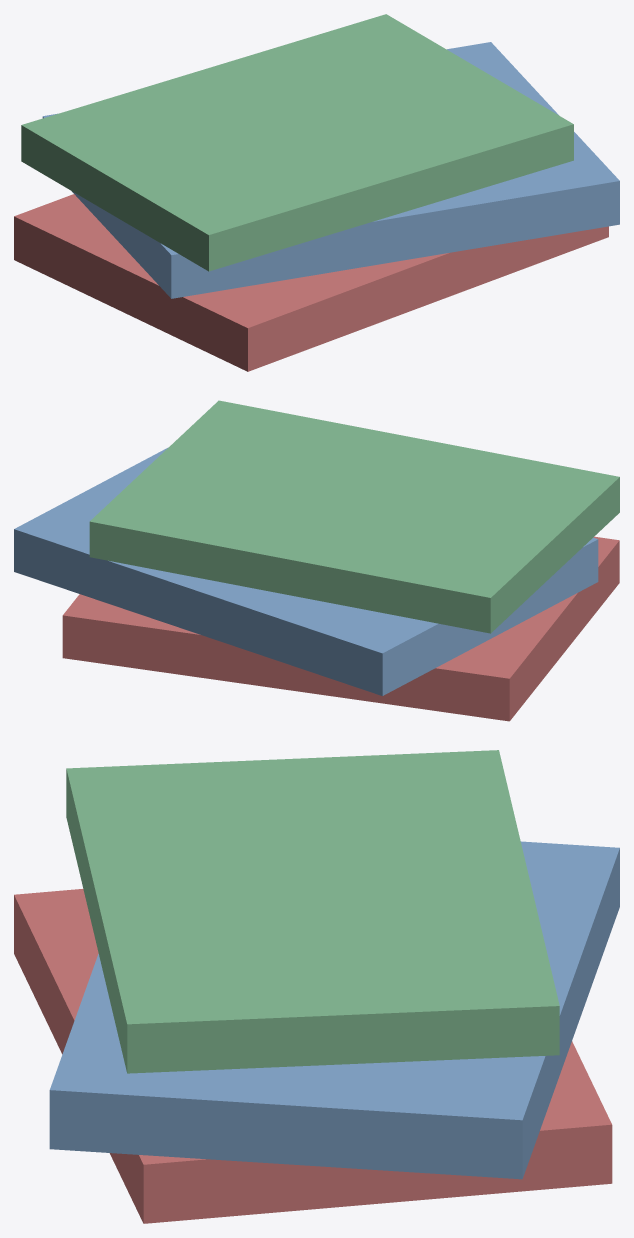
Rendered from kid_gibi.glb.
3 renders of one model, top to bottom at view 1: azimuth 30°, elevation 25°; view 2: azimuth 150°, elevation 25°; view 3: azimuth 270°, elevation 25°, orthographic. The views are drawn at different scales.
Parts seen in each view (by area): view 1: KID_GIBI_v01; view 2: KID_GIBI_v01; view 3: KID_GIBI_v01.
Part boxes in pixels (x1,y1,x2,y2): KID_GIBI_v01: (14,14,619,371); KID_GIBI_v01: (14,400,619,721); KID_GIBI_v01: (14,750,619,1223).
Bounding box in the file's own units: 0.3536 × 0.0875 × 0.2788.
